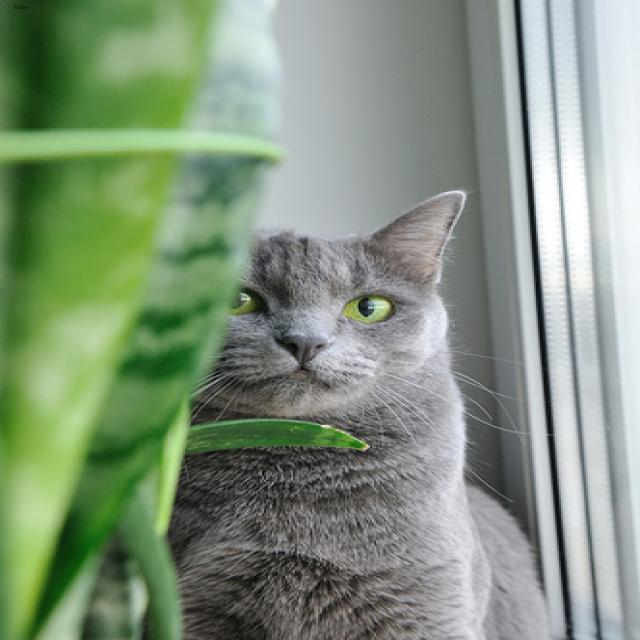Russian_Blue: (136, 189, 489, 421)
